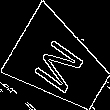M_SE: (30, 31, 91, 97)
